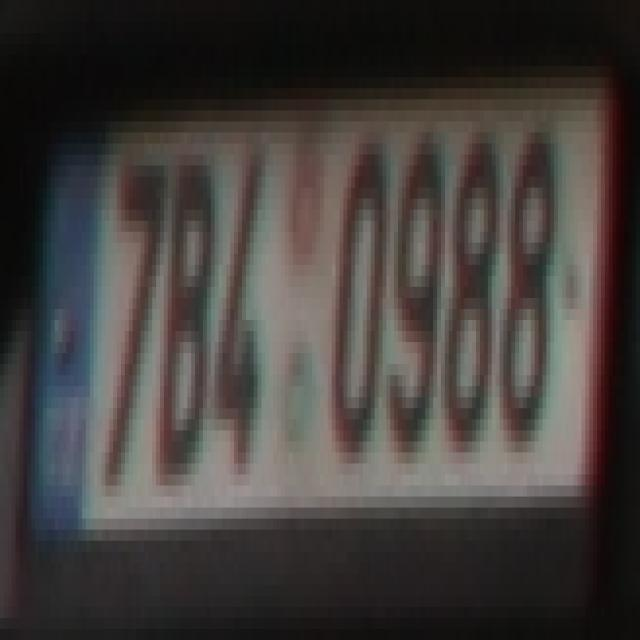0: (332, 121, 382, 452)
4: (210, 121, 258, 452)
7: (102, 154, 156, 496)
8: (500, 110, 554, 430), (448, 110, 499, 420)
9: (382, 121, 438, 442)
B: (160, 154, 210, 496)
